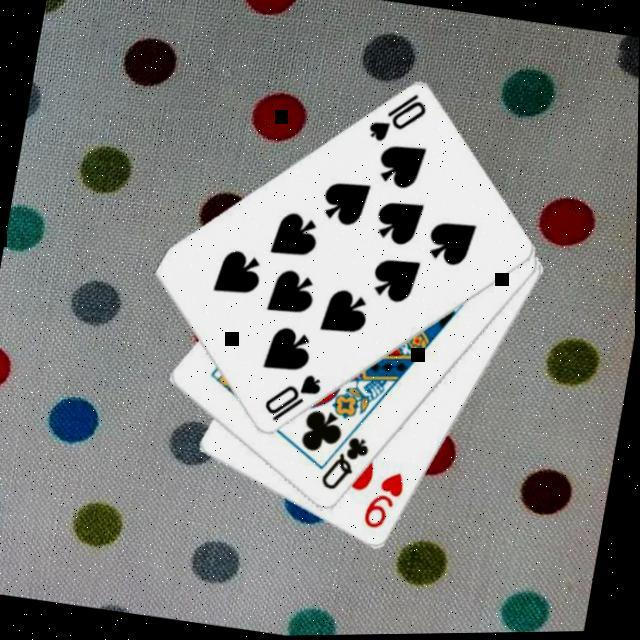10S: (362, 85, 431, 153), (258, 365, 327, 431)
9H: (359, 466, 410, 537)
QC: (316, 429, 375, 499)
